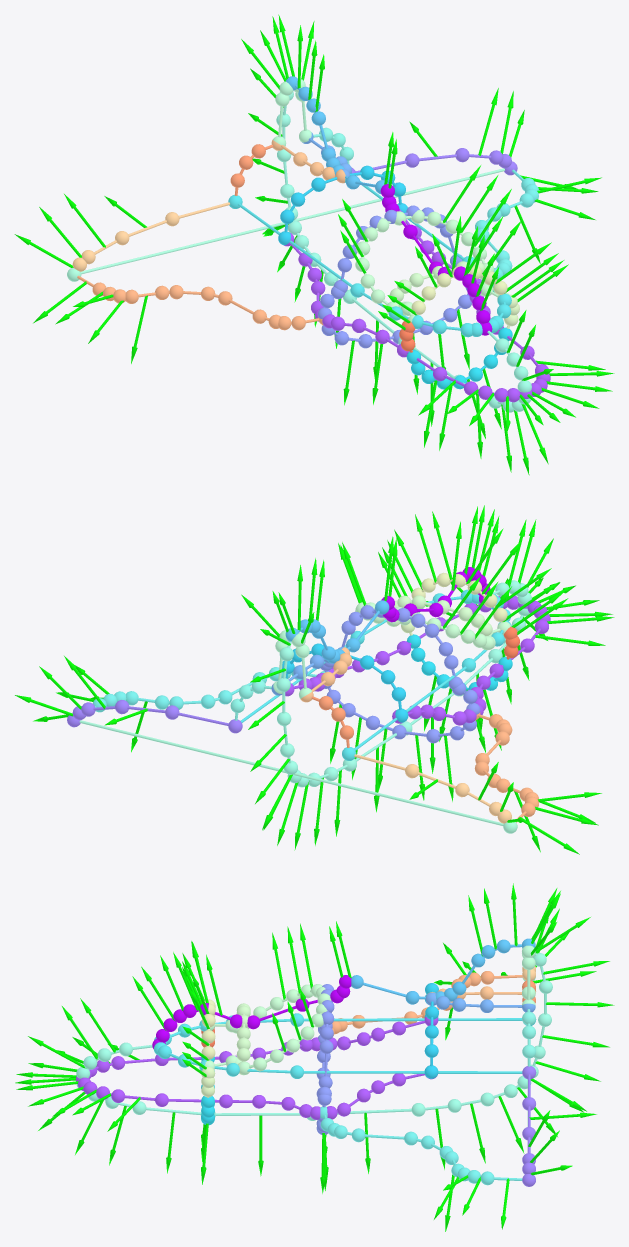
Rendered from t2f_fighter.gltf.
The picture shows the model from 3 angles, top to bottom: view 1: azimuth 30°, elevation 25°; view 2: azimuth 150°, elevation 25°; view 3: azimuth 270°, elevation 25°; orthographic projection. The views are drawn at different scales.
Size of the model in its own units: 0.8726 by 0.4672 by 0.8643.
